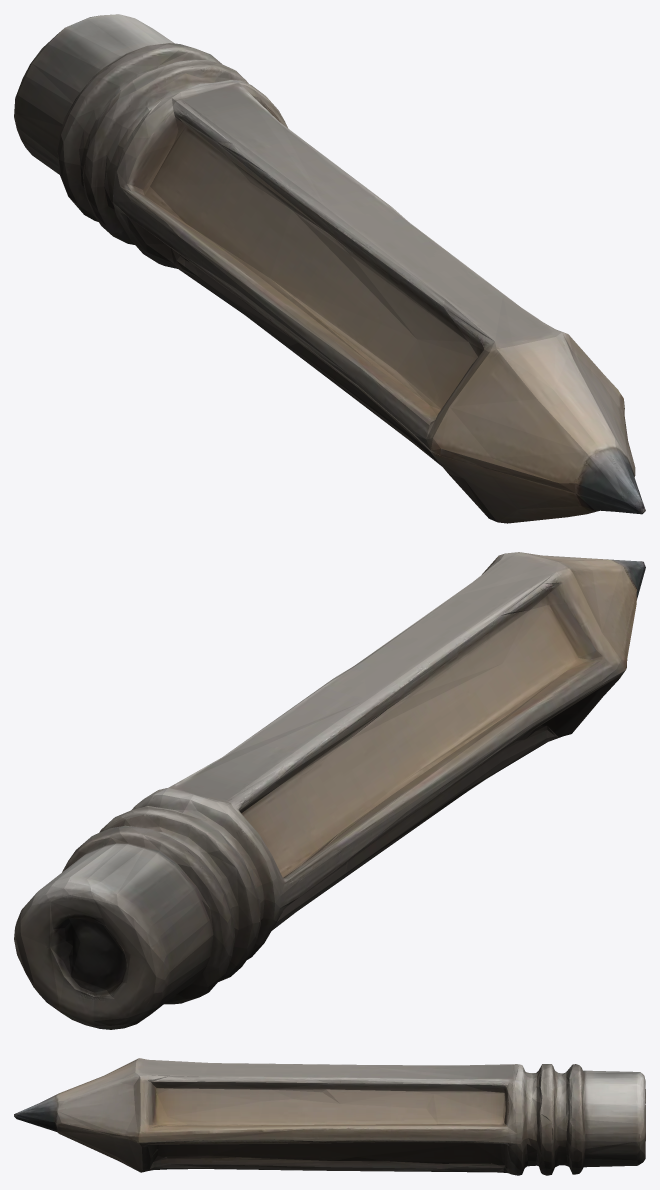
File: pencil.glb
The picture shows the model from 3 angles, top to bottom: view 1: azimuth 30°, elevation 25°; view 2: azimuth 150°, elevation 25°; view 3: azimuth 270°, elevation 25°; orthographic projection. The views are drawn at different scales.
Parts seen in each view (by area): view 1: world; view 2: world; view 3: world.
Part boxes in pixels (x1=…): world: x1=14, y1=14, x2=645, y2=523; world: x1=14, y1=552, x2=645, y2=1029; world: x1=14, y1=1058, x2=645, y2=1175.
Size of the model in its own units: 0.2023 by 0.1727 by 0.9977.
1 material, 1 textured.
